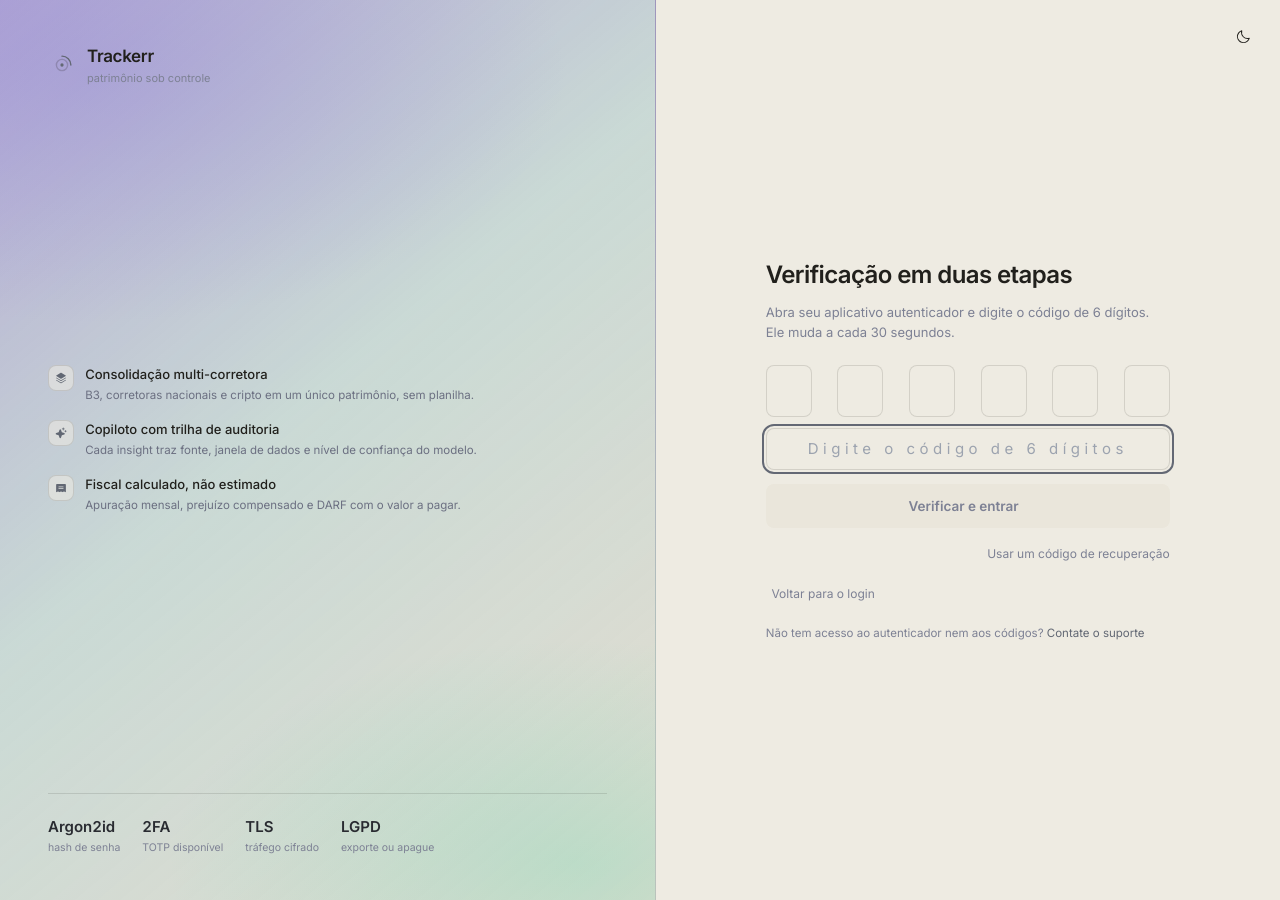
Scenario: TwoFactorVerify › manda refazer o login quando o rate limit invalida o tempToken
Click the button "Usar um código de recuperação" at (1078, 554), box [987,544,1170,562]
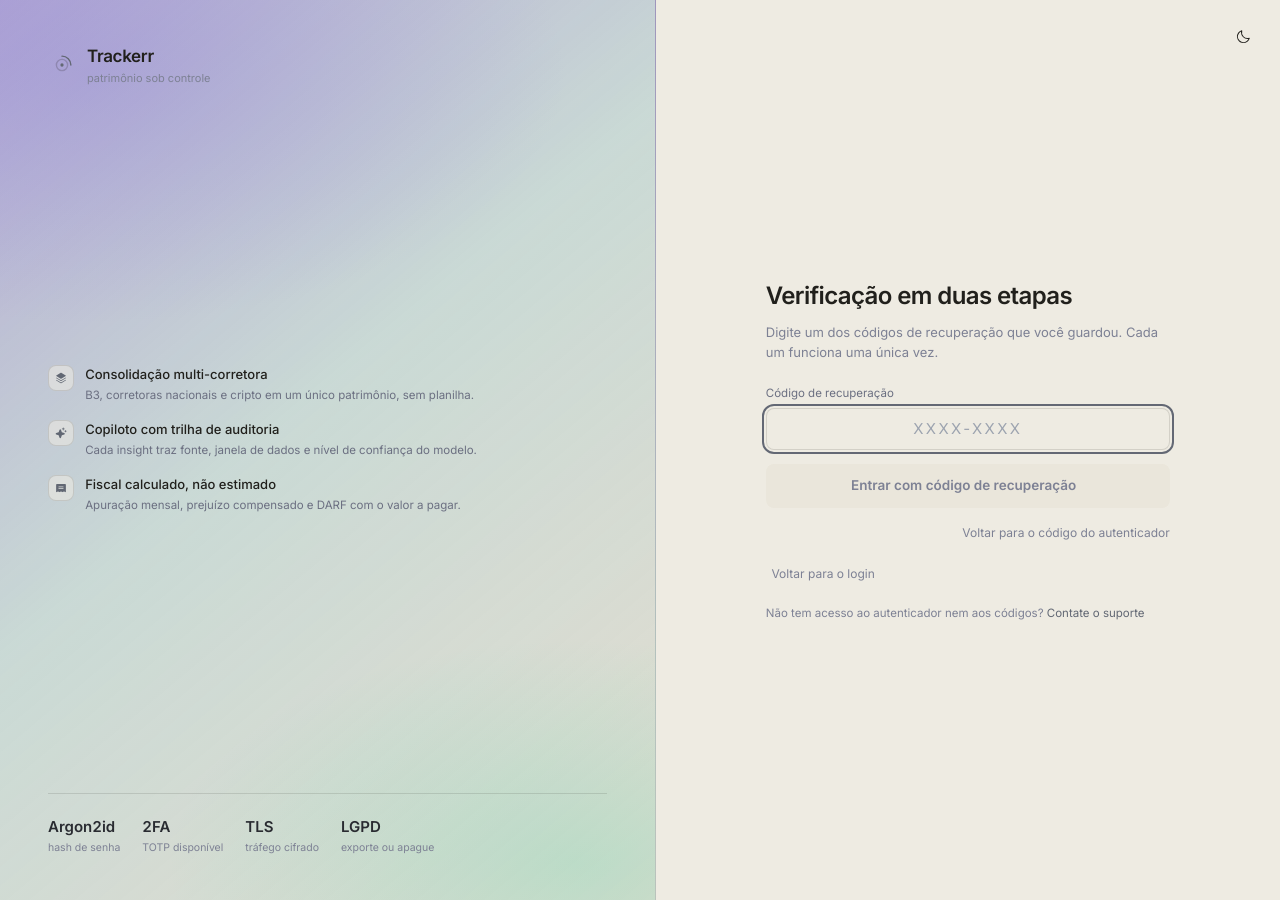
Type "A1B2-C3D4" into the field labelled "Código de recuperação" at (968, 428), box [766,408,1170,450]
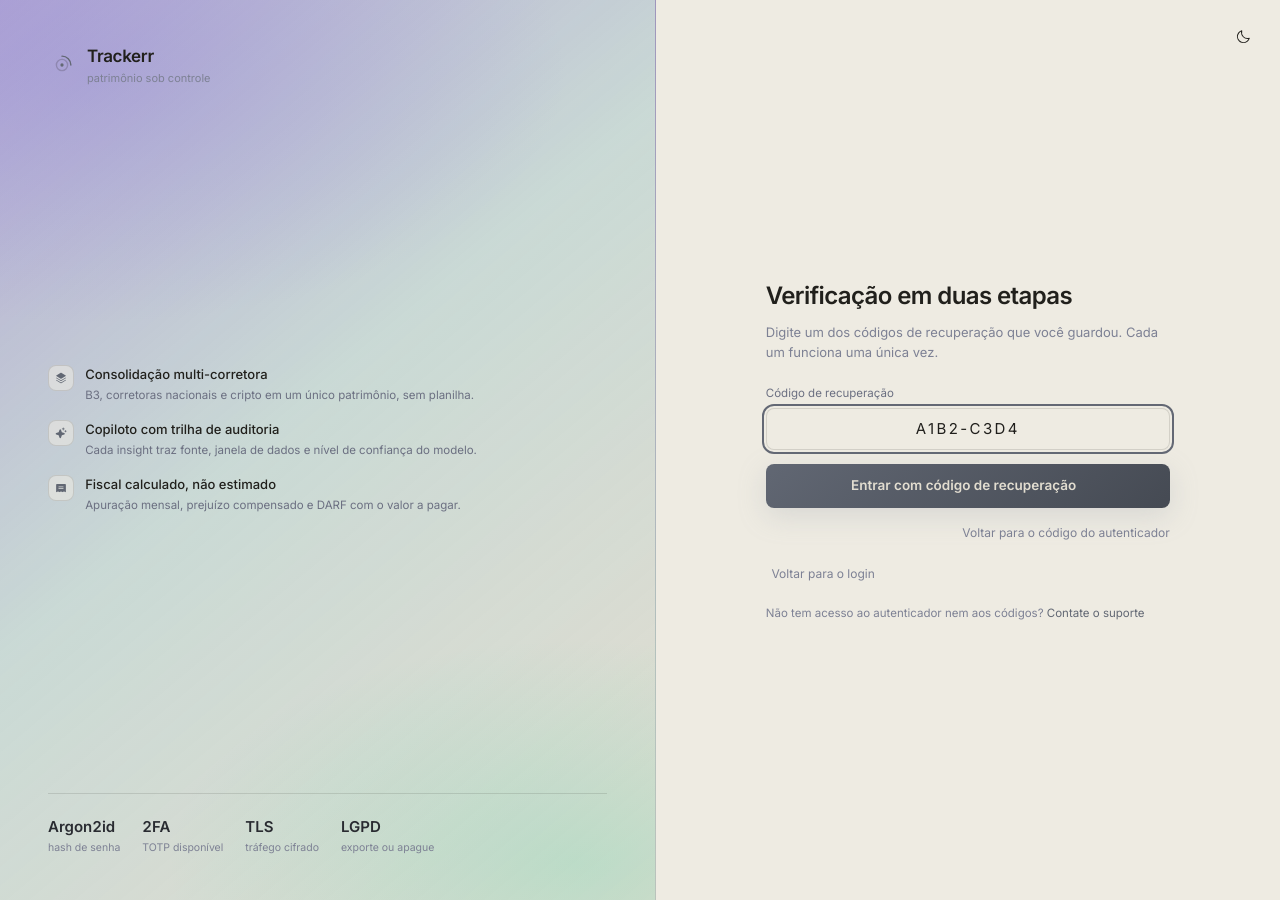
Click the button "Entrar com código de recuperação" at (968, 486), box [766,464,1170,508]
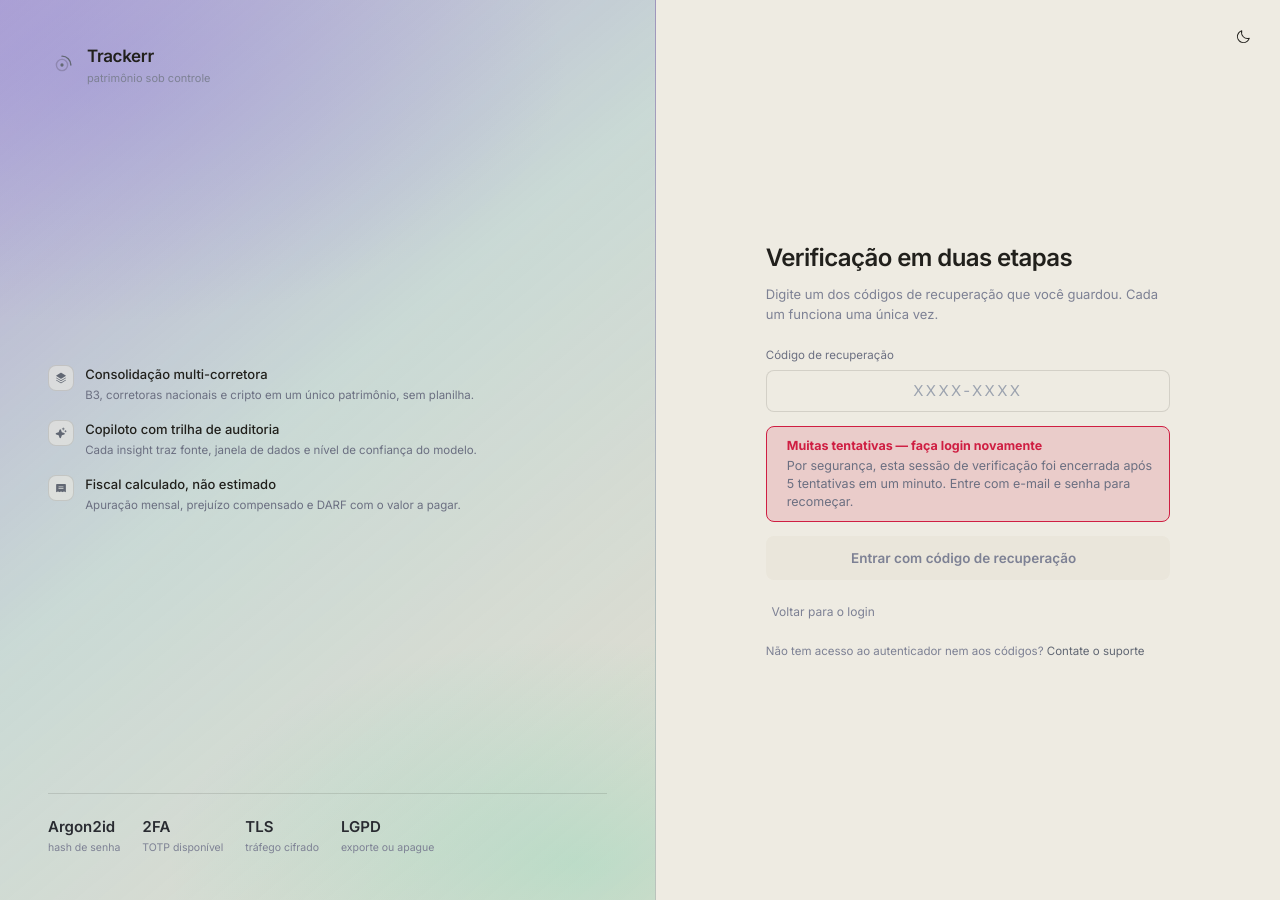
Now the message shows "faça login novamente", box [787,438,1042,453]
Now the field labelled "Código de recuperação" is disabled, box [766,370,1170,412]
Now the button "Entrar com código de recuperação" is disabled, box [766,536,1170,580]
